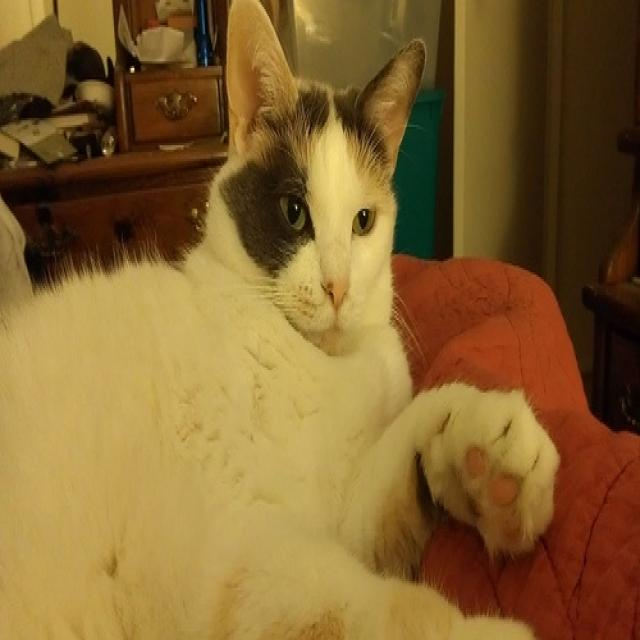Left_ear: (358, 31, 430, 182)
Left_eye: (352, 203, 378, 240)
Nouse: (324, 272, 352, 309)
Right_ear: (227, 1, 299, 151)
Right_eye: (280, 186, 314, 240)
